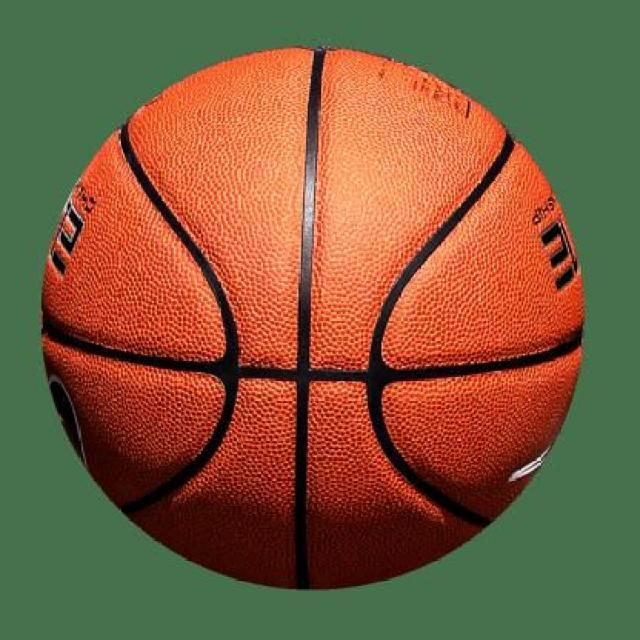basketball: (40, 43, 586, 591)
